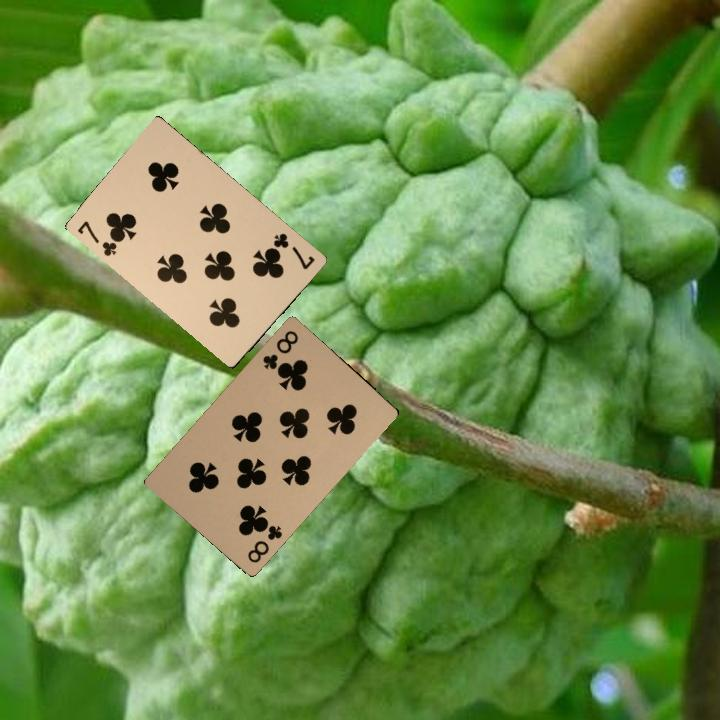7c: (73, 217, 124, 259), (269, 229, 317, 272)
8c: (243, 518, 285, 566), (259, 326, 301, 372)
